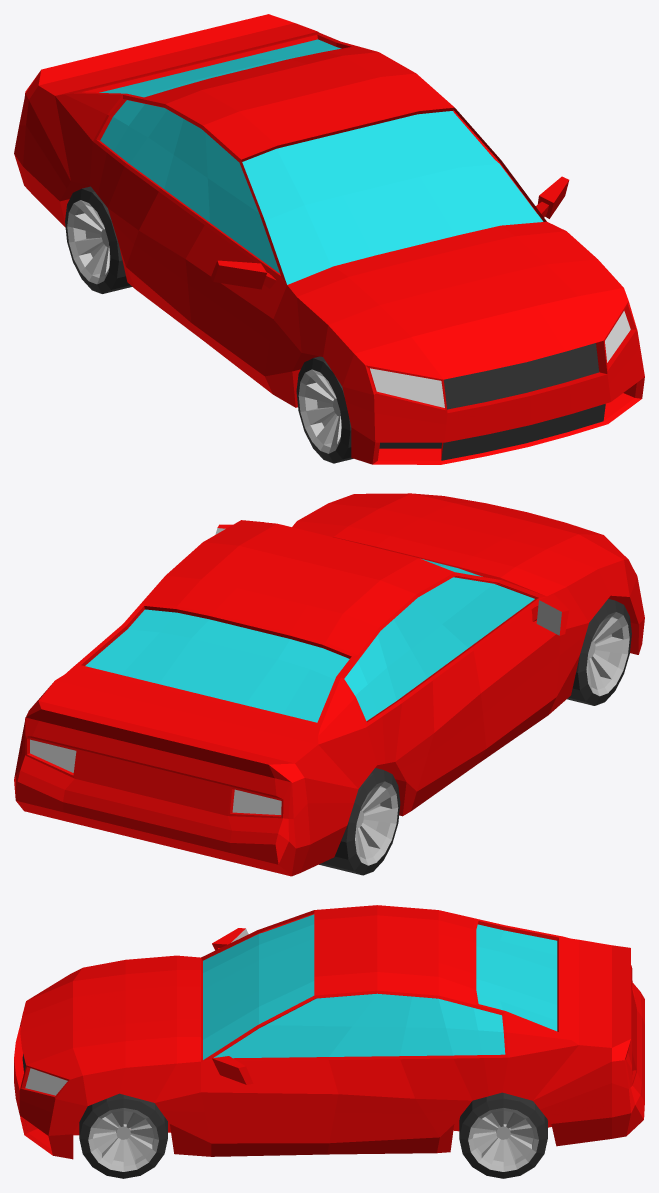
Rendered from low_poly_car.glb.
3 renders of one model, top to bottom at view 1: azimuth 30°, elevation 25°; view 2: azimuth 150°, elevation 25°; view 3: azimuth 270°, elevation 25°, orthographic. The views are drawn at different scales.
Parts seen in each view (by area): view 1: Cube; view 2: Cube; view 3: Cube.
Boxes of the visible parts, x1,y1,x2,y2 form: Cube: [14, 14, 644, 464]; Cube: [14, 493, 644, 876]; Cube: [14, 905, 644, 1178].
Size of the model in its own units: 181 by 107 by 342.
